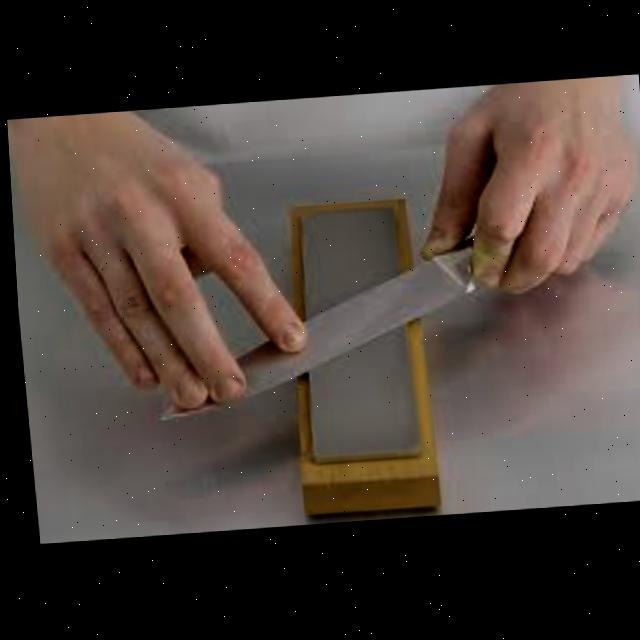knife: (5, 84, 640, 418), (141, 236, 487, 423), (417, 79, 640, 299)
